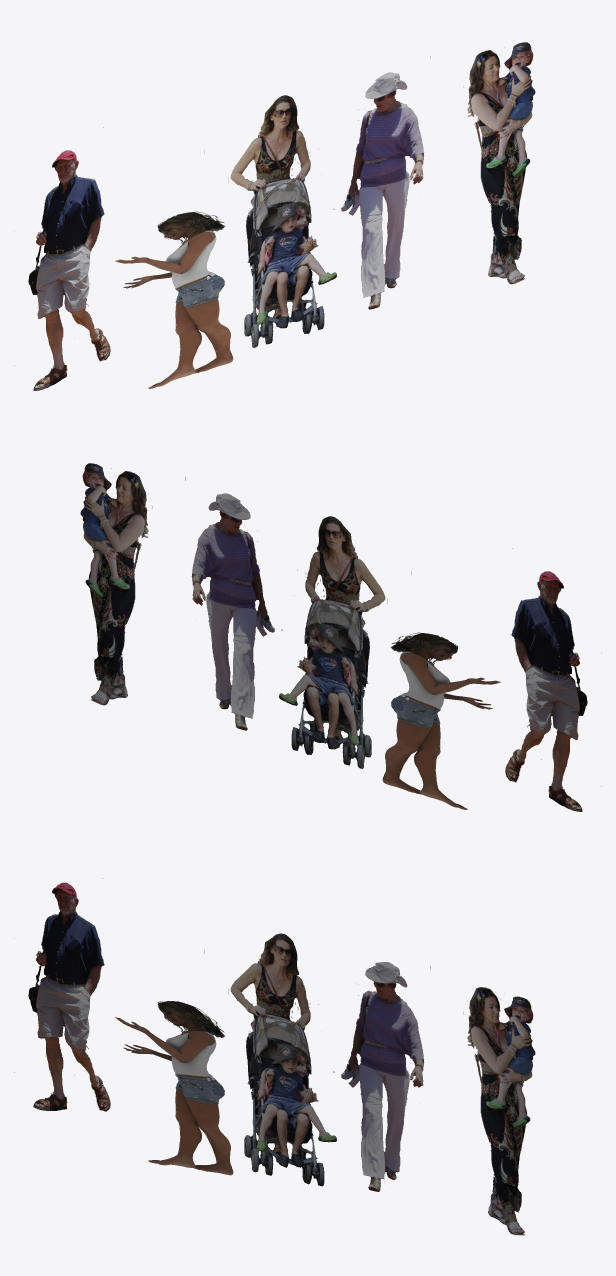
File: some3.dae
3 views of the same model, one above another, from view 1: azimuth 30°, elevation 25°; view 2: azimuth 150°, elevation 25°; view 3: azimuth 330°, elevation 25° (orthographic).
Visible parts, largest first — view 1: image_1, image_2, Component_1, image_3, image_0; view 2: image_1, image_2, Component_1, image_3, image_0; view 3: image_1, image_2, Component_1, image_3, image_0.
Boxes of the visible parts, x1=… form: image_1: x1=204, y1=95, x2=336, y2=347; image_2: x1=341, y1=72, x2=424, y2=309; Component_1: x1=430, y1=42, x2=535, y2=284; image_3: x1=14, y1=127, x2=110, y2=390; image_0: x1=115, y1=211, x2=233, y2=388; image_1: x1=279, y1=516, x2=411, y2=768; image_2: x1=191, y1=493, x2=274, y2=730; Component_1: x1=80, y1=463, x2=185, y2=705; image_3: x1=505, y1=548, x2=601, y2=811; image_0: x1=382, y1=632, x2=500, y2=809; image_1: x1=204, y1=933, x2=336, y2=1186; image_2: x1=341, y1=962, x2=424, y2=1191; Component_1: x1=430, y1=966, x2=535, y2=1235; image_3: x1=14, y1=882, x2=110, y2=1111; image_0: x1=115, y1=1001, x2=233, y2=1175.
Bounding box in the file's own units: 186 × 1.14e-13 × 82.39.
5 materials, 5 textured.
